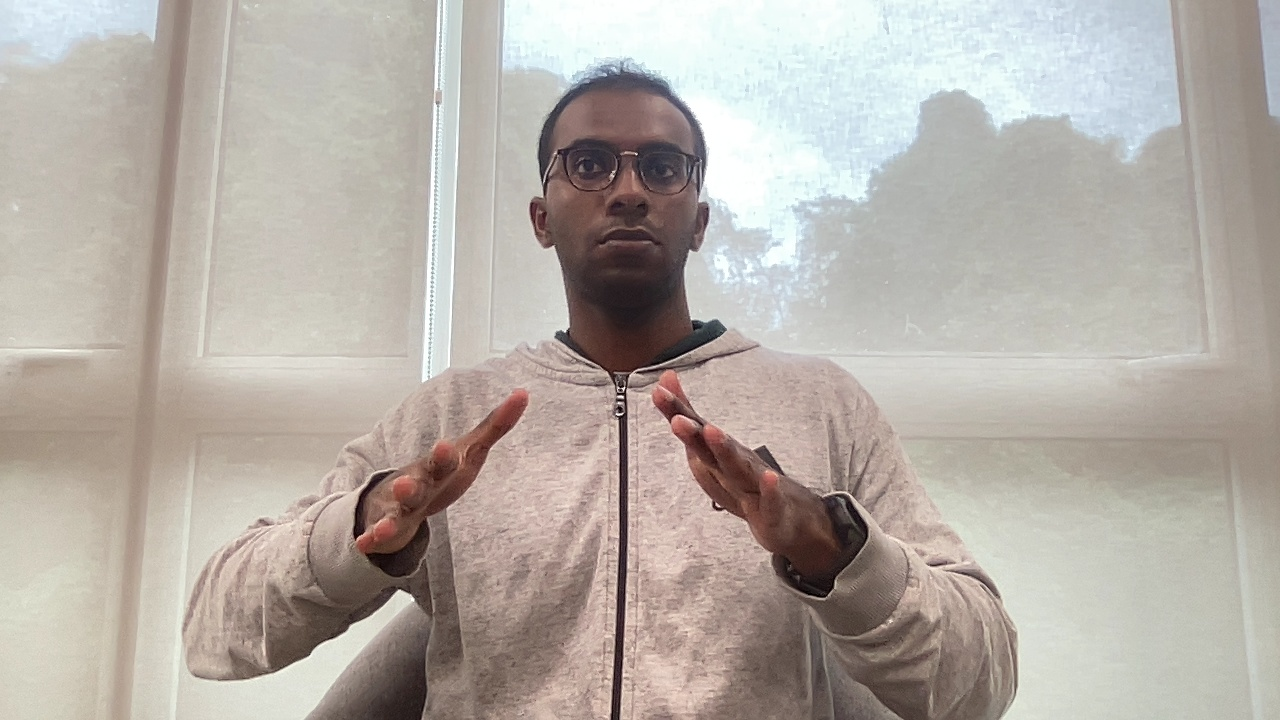finish: (344, 364, 826, 563)
